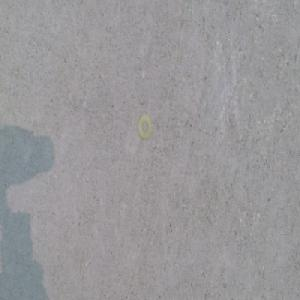Washer: (137, 115, 152, 143)
